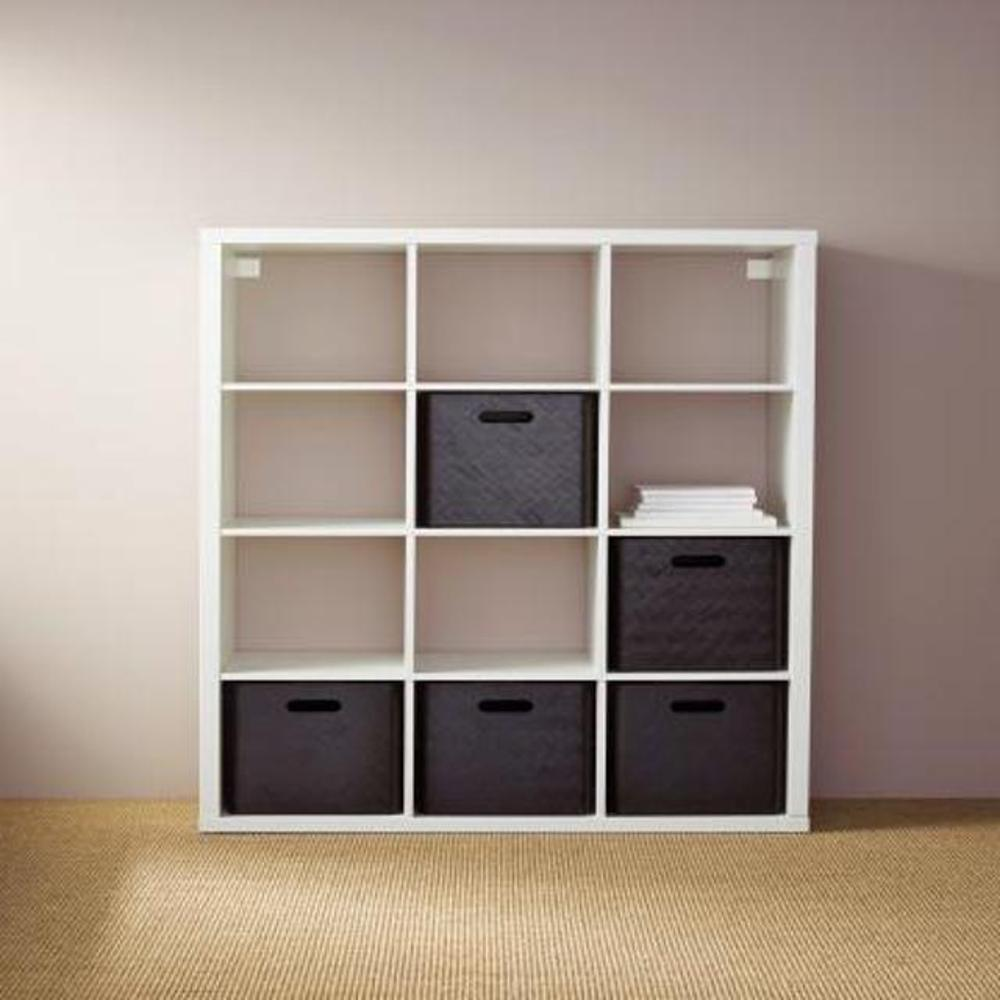lamp: (193, 223, 812, 835)
